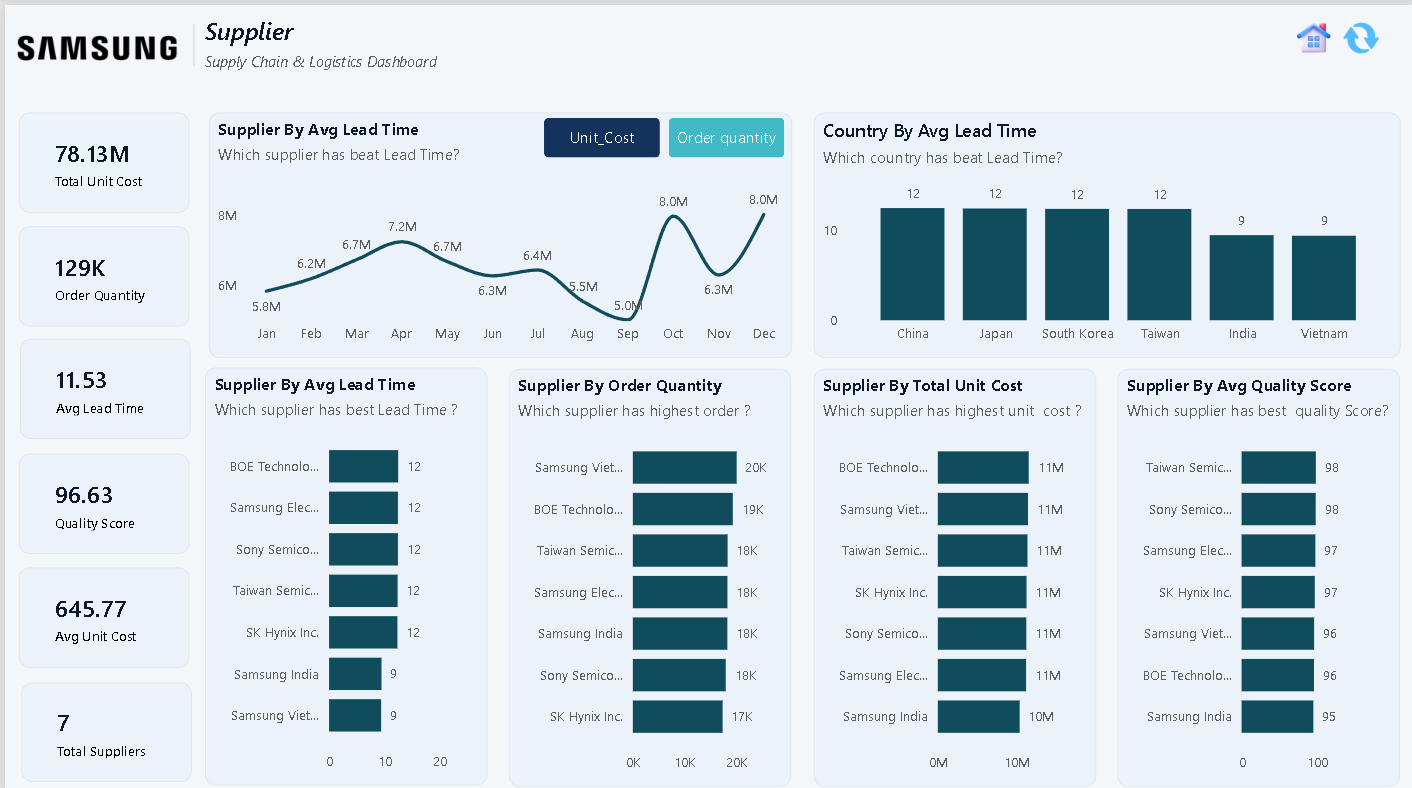

Layout of this report page (visuals, bound fields, positions):
{"tool":"powerbi","page":{"name":"Supplier","canvas":[1280,720],"ordinal":3},"visuals":[{"type":"shape","title":"Supplier","box":[181.4,8.1,220.9,57],"z":0},{"type":"lineChart","title":"Supplier By Avg Lead Time","fields":{"Y":["fact_procurement.Total_Unit_Cost"],"Category":["dim_date.Short_Date"]},"box":[184.9,97.7,530.2,223.3],"z":0,"group":"g1"},{"type":"shape","box":[162.8,17.4,18.6,38.4],"z":1000},{"type":"advancedSlicerVisual","fields":{"Values":["Cost_nd_Quantity.Cost_nd_Quantity"]},"box":[485,98.1,229.1,46.5],"z":1000,"group":"g1"},{"type":"image","box":[0,15.1,160.5,47.7],"z":2000},{"type":"cardVisual","fields":{"Data":["MeasuresTable.Order_quantity"]},"box":[12.2,201.2,155,91.5],"z":3000},{"type":"cardVisual","fields":{"Data":["MeasuresTable.Avg_Lead_Time"]},"box":[13.7,303.9,155,91],"z":4000},{"type":"cardVisual","fields":{"Data":["fact_procurement.Avg_Quality_Score"]},"box":[12.8,408.3,155,91.5],"z":5000},{"type":"cardVisual","fields":{"Data":["fact_procurement.Avg_Unit_Cost"]},"box":[12,511.5,155,91],"z":6000},{"type":"cardVisual","fields":{"Data":["fact_procurement.Total_Unit_Cost"]},"box":[12.2,97.6,155,91.5],"z":7000},{"type":"cardVisual","fields":{"Data":["CountNonNull(dim_supplier.supplier_id)"]},"box":[15.1,616.3,155,90.7],"z":8000},{"type":"clusteredBarChart","title":"Supplier By Avg Lead Time","fields":{"Y":["MeasuresTable.Avg_Lead_Time"],"Category":["dim_supplier.supplier_name"]},"box":[181.4,329.1,257,380.2],"z":9000},{"type":"clusteredBarChart","title":"Supplier By Order Quantity","fields":{"Y":["Sum(fact_procurement.order_quantity)"],"Category":["dim_supplier.supplier_name"]},"box":[458.2,330.2,257,380.2],"z":10000},{"type":"clusteredBarChart","title":"Supplier By Total Unit Cost","fields":{"Y":["fact_procurement.Total_Unit_Cost"],"Category":["dim_supplier.supplier_name"]},"box":[734.9,330.2,257,380.2],"z":11000},{"type":"clusteredColumnChart","title":"Country By Avg Lead Time","fields":{"Category":["dim_supplier.country"],"Y":["MeasuresTable.Avg_Lead_Time"]},"box":[734.9,97.7,533.7,223.3],"z":12000},{"type":"group","id":"g1","title":"Group 1","box":[184.9,97.7,530.2,223.3],"z":13000},{"type":"clusteredBarChart","title":"Supplier By Avg Quality Score","fields":{"Y":["fact_procurement.Avg_Quality_Score"],"Category":["dim_supplier.supplier_name"]},"box":[1011.6,330.2,257,380.2],"z":14000},{"type":"image","box":[1168.6,15.1,43,30.2],"z":15000},{"type":"image","box":[1211.6,14,43,32.6],"z":16000}]}

Visuals, with their boxes in screenshot pixels (x1, y1, x2, y2), scaled from the page's 1280x720 canvas onto the 1412x788 screenshot:
"Supplier" shape: box(200, 9, 444, 71)
"Supplier By Avg Lead Time" lineChart: box(204, 107, 789, 351)
shape: box(180, 19, 200, 61)
advancedSlicerVisual - Cost_nd_Quantity.Cost_nd_Quantity: box(535, 107, 788, 158)
image: box(0, 17, 177, 69)
cardVisual - MeasuresTable.Order_quantity: box(13, 220, 184, 320)
cardVisual - MeasuresTable.Avg_Lead_Time: box(15, 333, 186, 432)
cardVisual - fact_procurement.Avg_Quality_Score: box(14, 447, 185, 547)
cardVisual - fact_procurement.Avg_Unit_Cost: box(13, 560, 184, 659)
cardVisual - fact_procurement.Total_Unit_Cost: box(13, 107, 184, 207)
cardVisual - CountNonNull(dim_supplier.supplier_id): box(17, 675, 188, 774)
"Supplier By Avg Lead Time" clusteredBarChart: box(200, 360, 484, 776)
"Supplier By Order Quantity" clusteredBarChart: box(505, 361, 789, 777)
"Supplier By Total Unit Cost" clusteredBarChart: box(811, 361, 1094, 777)
"Country By Avg Lead Time" clusteredColumnChart: box(811, 107, 1399, 351)
"Group 1" group: box(204, 107, 789, 351)
"Supplier By Avg Quality Score" clusteredBarChart: box(1116, 361, 1399, 777)
image: box(1289, 17, 1337, 50)
image: box(1337, 15, 1384, 51)
